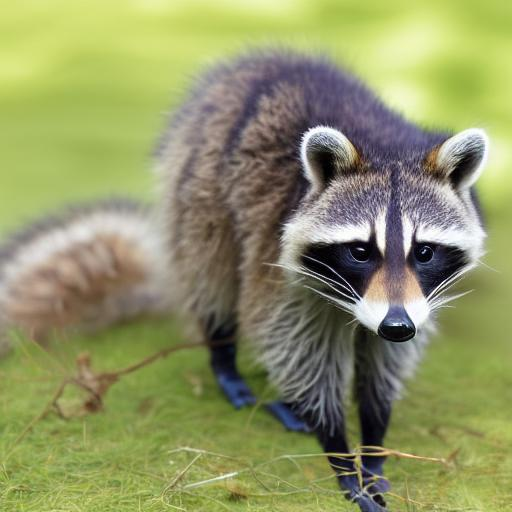raccoon: (0, 34, 507, 446)
